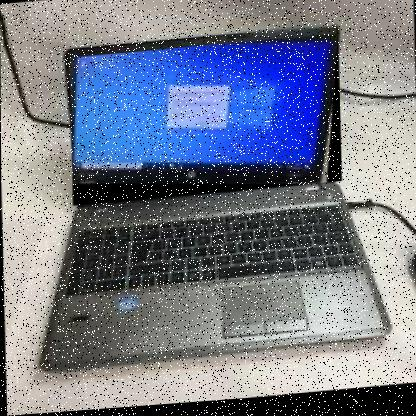Normal: (68, 38, 341, 208)
